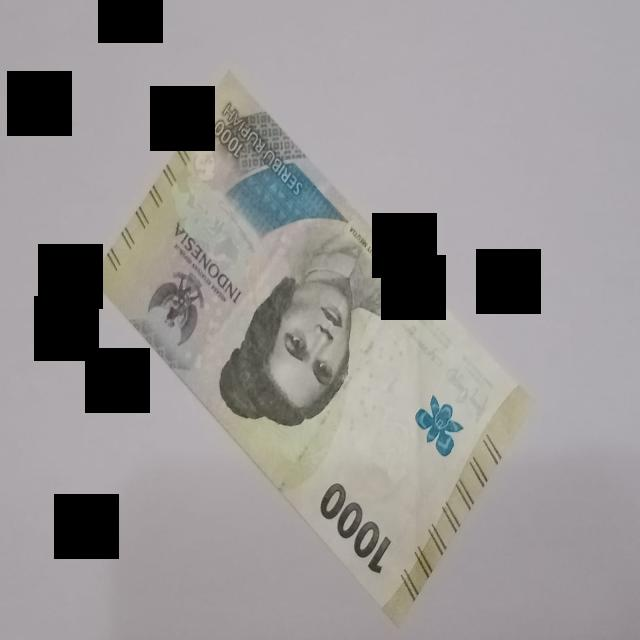seribu rupiah: (95, 73, 529, 622)
